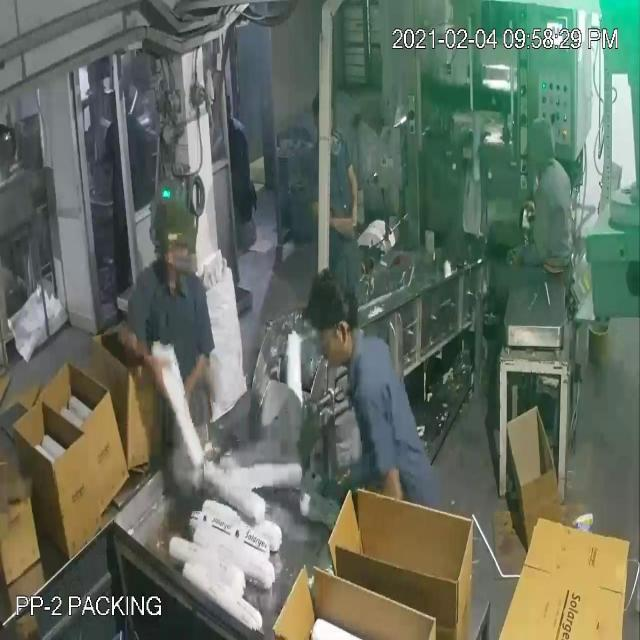No_Gloves: (26, 64, 357, 378)
